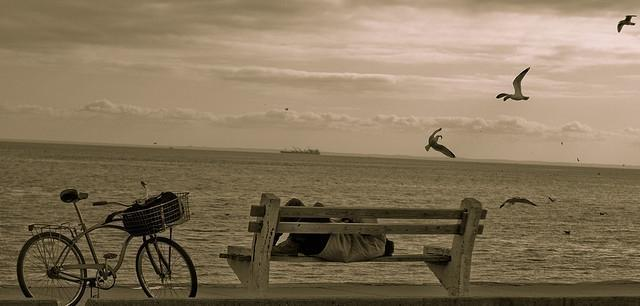bicycle: (18, 181, 198, 306)
